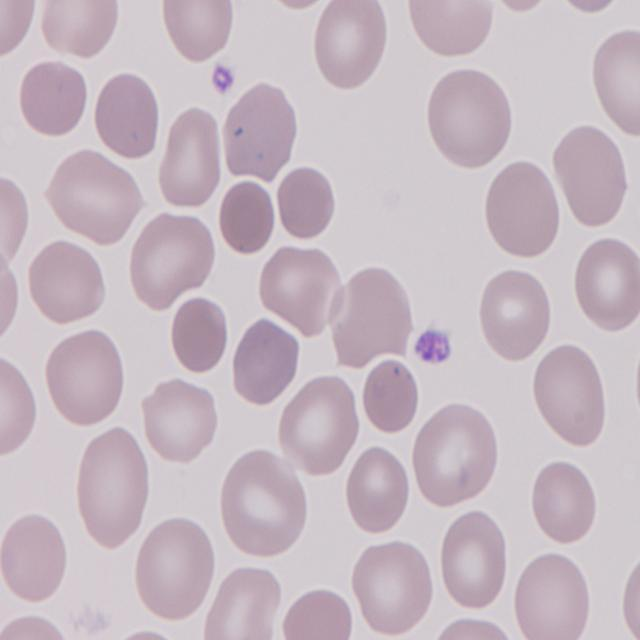RBC: (218, 449, 310, 562), (73, 428, 150, 558), (412, 400, 502, 510), (126, 210, 220, 313), (426, 64, 516, 171), (44, 150, 141, 248), (276, 374, 363, 480), (530, 338, 612, 450), (483, 155, 566, 264), (132, 516, 216, 622), (222, 74, 303, 182), (42, 328, 126, 431), (352, 539, 436, 640), (552, 125, 630, 232), (475, 263, 556, 362), (437, 508, 512, 614), (336, 264, 414, 364), (154, 100, 222, 214), (258, 241, 340, 334), (512, 547, 592, 640), (143, 374, 223, 466), (26, 238, 106, 327), (569, 234, 640, 334), (310, 0, 388, 89), (344, 444, 416, 539), (0, 508, 69, 604), (92, 72, 164, 164), (230, 316, 303, 406), (204, 562, 286, 640), (529, 457, 597, 548), (16, 60, 90, 142), (591, 27, 640, 140), (406, 0, 496, 61), (40, 0, 120, 63), (160, 0, 236, 64), (0, 352, 38, 461), (0, 168, 32, 268), (0, 250, 23, 349), (0, 0, 39, 57), (0, 611, 73, 640), (430, 617, 520, 640), (619, 550, 640, 639), (549, 0, 636, 14), (477, 0, 562, 12), (103, 631, 187, 640)
Spherocyte: (167, 292, 230, 380), (361, 354, 424, 436), (274, 165, 336, 246), (215, 178, 276, 260), (282, 585, 355, 640)
